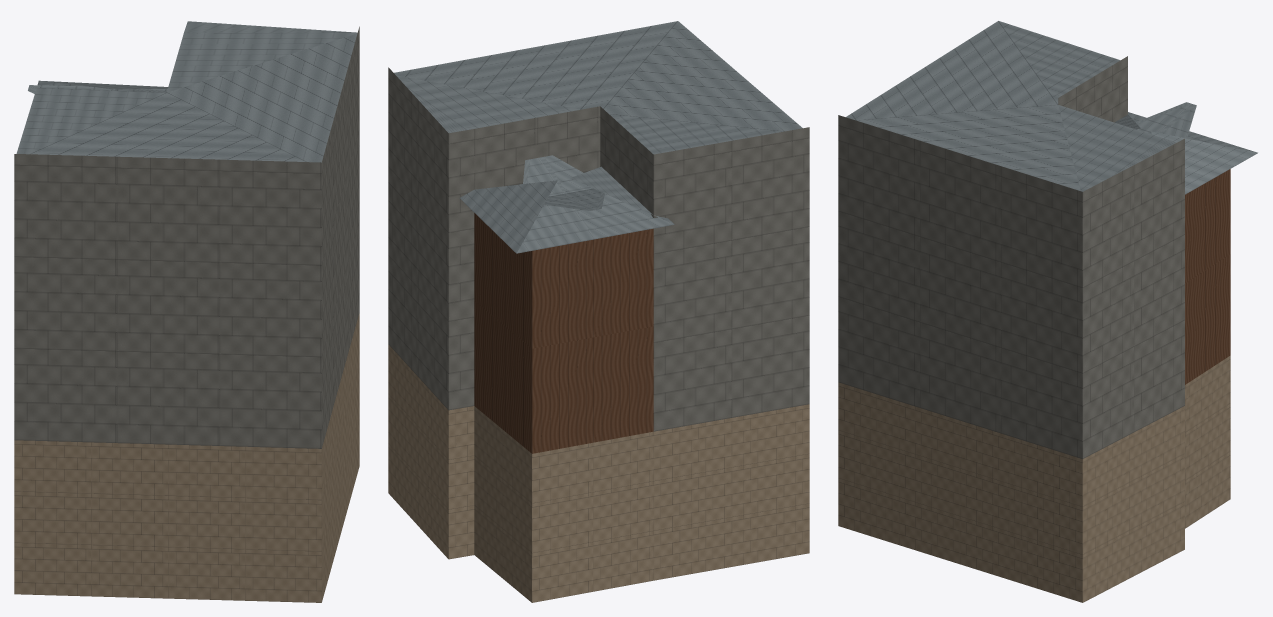
File: bld_c22_45_396.gltf
3 views of the same model, side by side, from view 1: azimuth 30°, elevation 25°; view 2: azimuth 150°, elevation 25°; view 3: azimuth 270°, elevation 25° (orthographic). The views are drawn at different scales.
Visible parts, largest first — view 1: bld_c22_45_396; view 2: bld_c22_45_396; view 3: bld_c22_45_396.
Part boxes in pixels (x1,y1,x2,y2): bld_c22_45_396: (14,21,359,602); bld_c22_45_396: (388,21,809,602); bld_c22_45_396: (838,21,1257,602).
Size of the model in its own units: 13.53 by 14.58 by 13.51.
5 materials, 5 textured.
